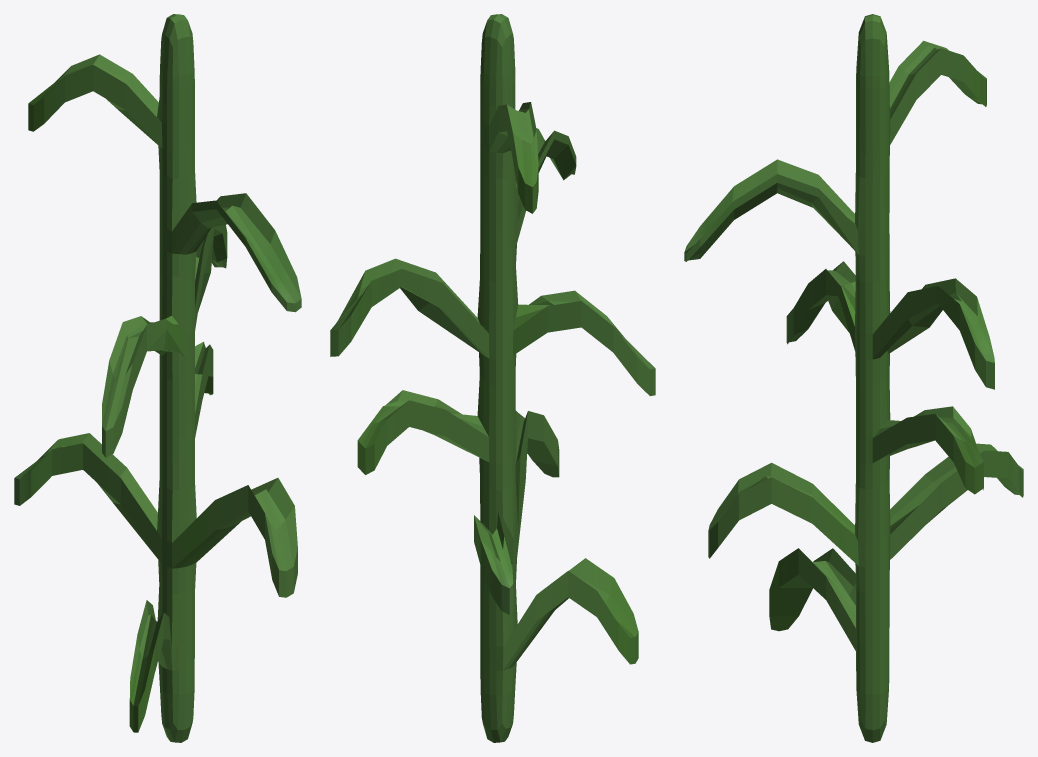
The model's file is SM_Crop_Corn_Stage_Growing.fbx.
3 views of the same model, side by side, from view 1: azimuth 30°, elevation 25°; view 2: azimuth 150°, elevation 25°; view 3: azimuth 270°, elevation 25° (orthographic).
Visible parts, largest first — view 1: SM_Crop_Corn_ST2; view 2: SM_Crop_Corn_ST2; view 3: SM_Crop_Corn_ST2.
Part boxes in pixels (box(x1,y1,x2,y2)): SM_Crop_Corn_ST2: box(14, 14, 301, 742); SM_Crop_Corn_ST2: box(330, 14, 655, 742); SM_Crop_Corn_ST2: box(684, 14, 1023, 742).
Size of the model in its own units: 101 by 318 by 135.
1 material, 1 textured.
